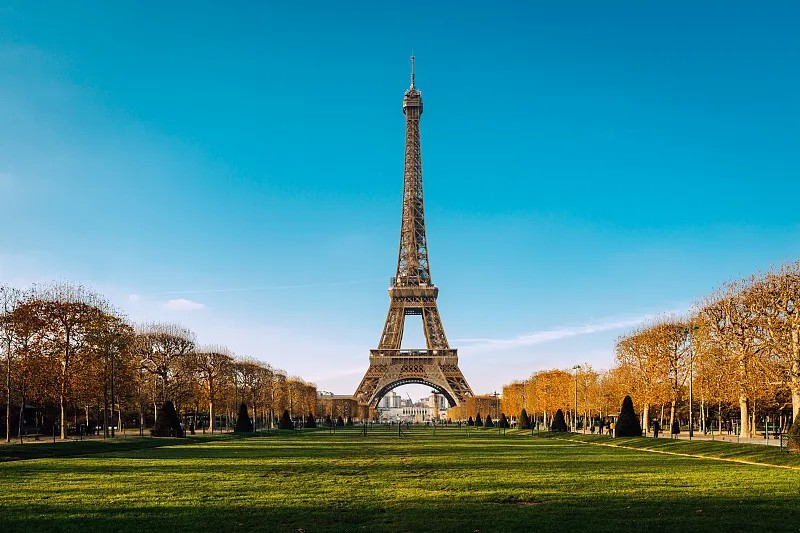Eiffel: (348, 50, 475, 417)
